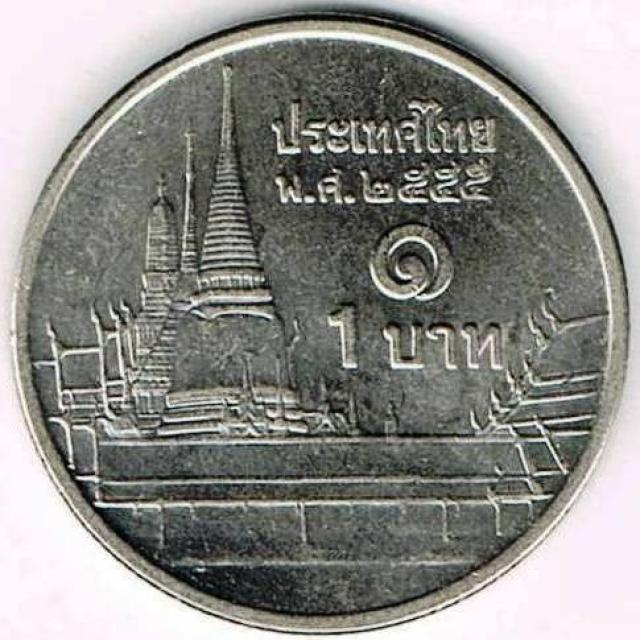1 Bath: (14, 11, 634, 639)
